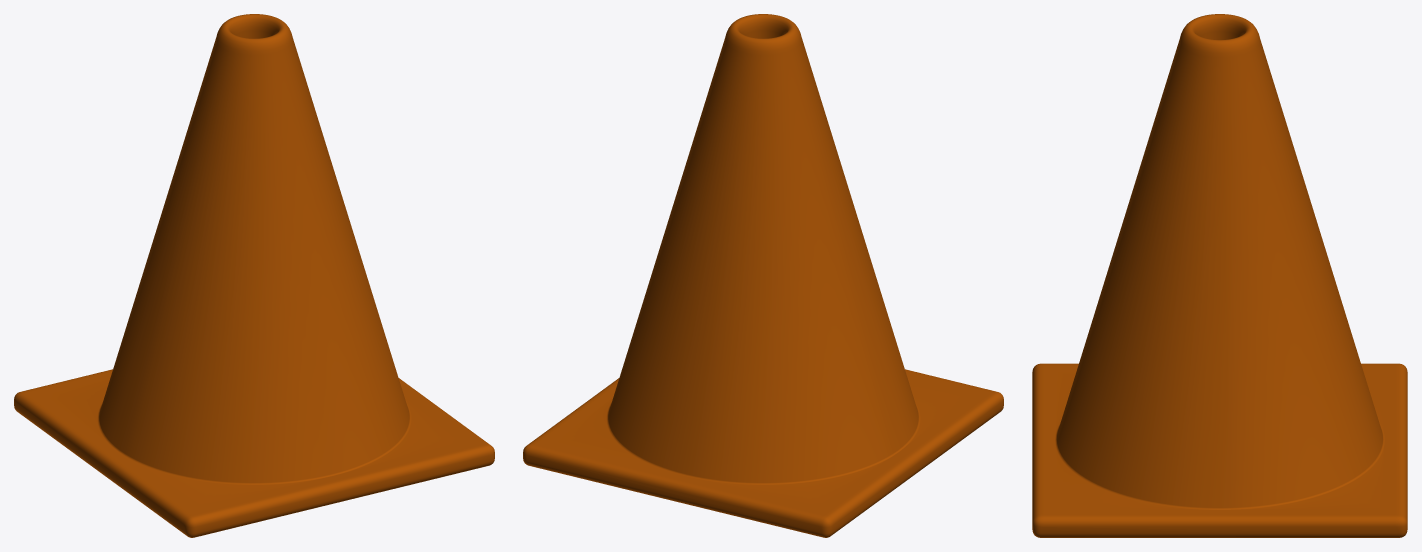
3 views of the same model, side by side, from view 1: azimuth 30°, elevation 25°; view 2: azimuth 150°, elevation 25°; view 3: azimuth 270°, elevation 25° (orthographic). The views are drawn at different scales.
Parts seen in each view (by area): view 1: Cube; view 2: Cube; view 3: Cube.
Part boxes in pixels (x1,y1,x2,y2): Cube: (14, 14, 494, 537); Cube: (523, 14, 1003, 537); Cube: (1032, 14, 1407, 537).
Size of the model in its own units: 6.21 by 7.93 by 6.21.
